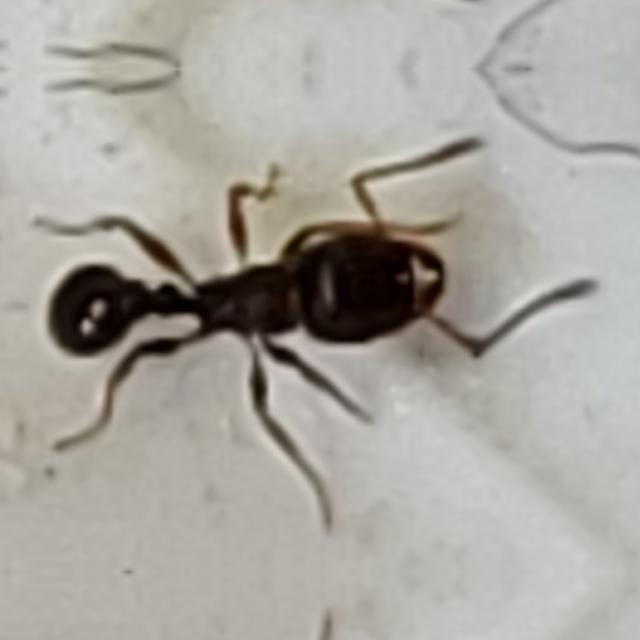Tetramorium: (23, 178, 481, 436)
